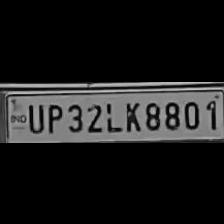0: (180, 98, 200, 130)
1: (202, 96, 218, 130)
2: (84, 99, 103, 134)
3: (64, 99, 82, 133)
8: (142, 97, 160, 130), (162, 97, 180, 130)
K: (121, 97, 141, 132)
L: (104, 98, 120, 134)
P: (43, 100, 62, 134)
U: (24, 100, 43, 132)
